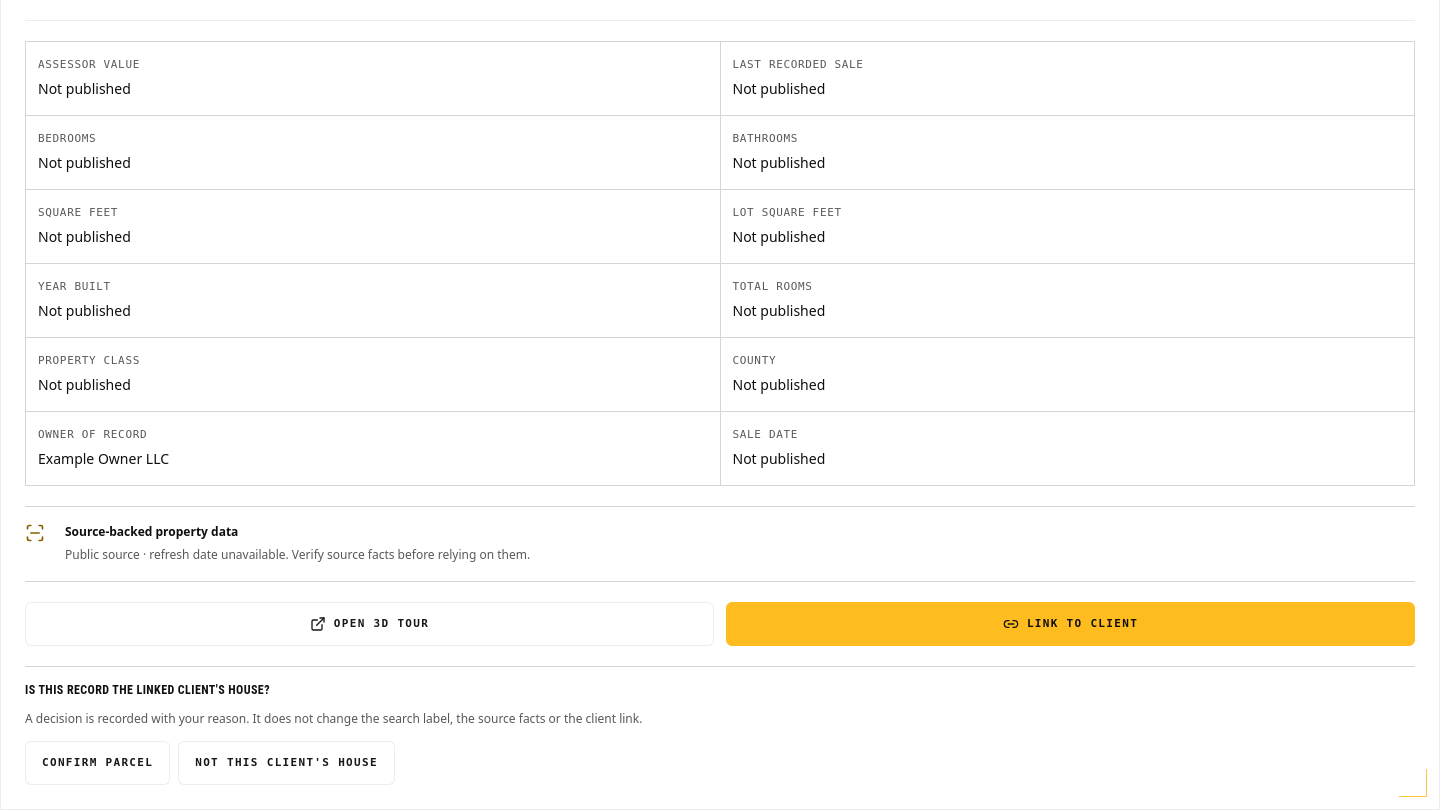
Test: HouseWorkspace house decision form › asks for evidence before a confirmation is sent
(page scrolled)
Click the button "Confirm parcel".
click(98, 763)  # box [25,741,170,785]
(page scrolled)
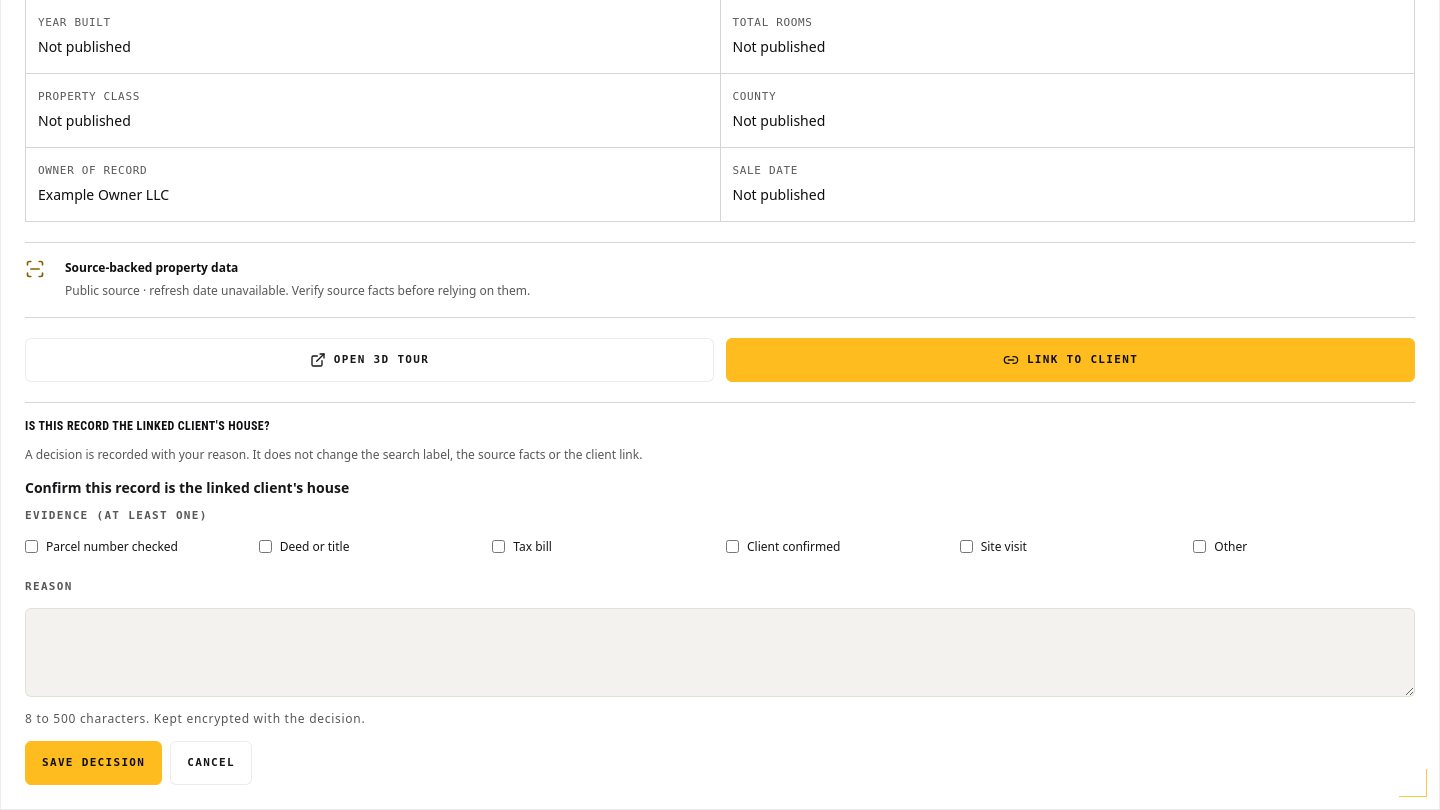
Type "Deed names the client" into the text box labelled "Reason".
click(720, 652); type("Deed names the client")  # box [25,608,1415,697]
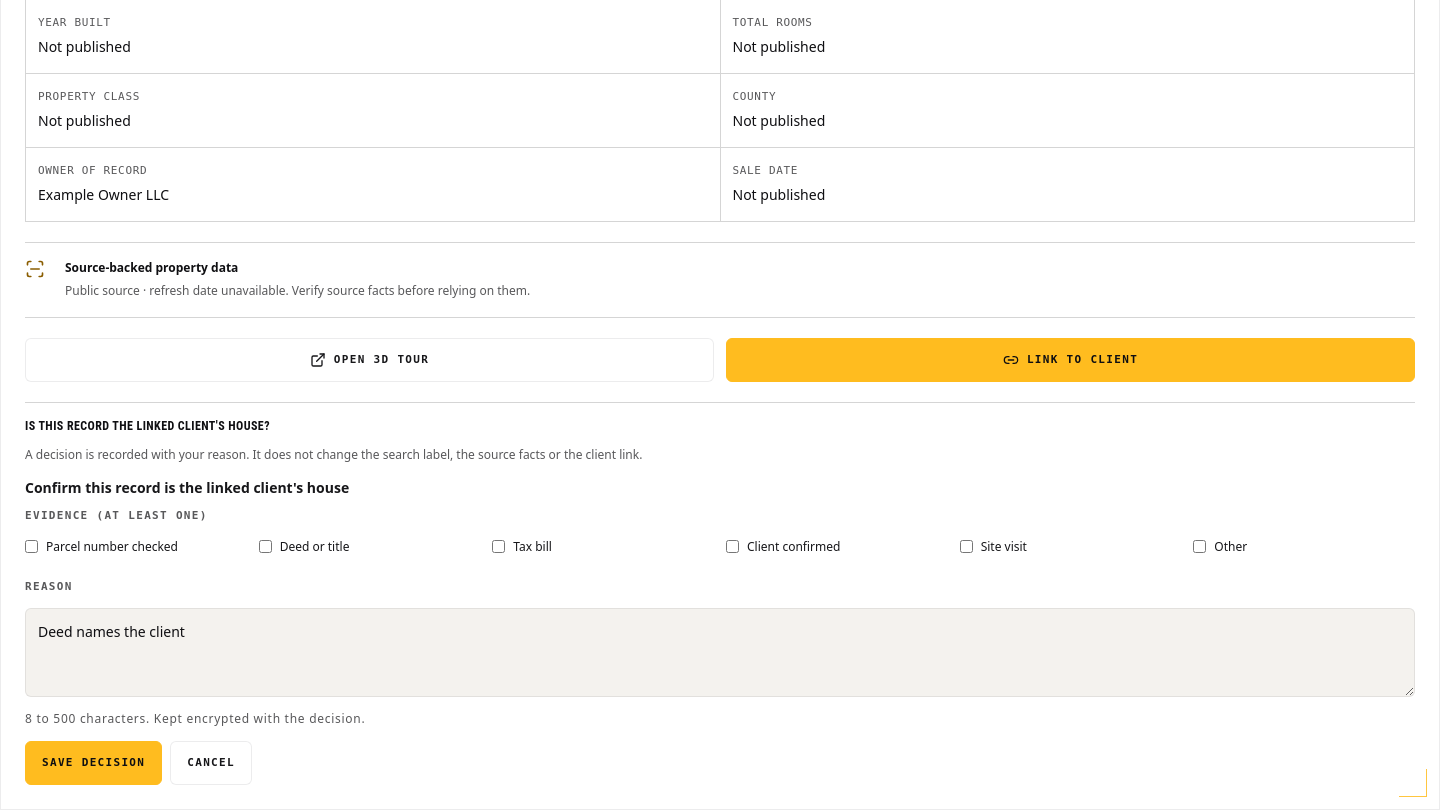
Click the button "Save decision".
click(94, 763)  # box [25,741,162,785]
(page scrolled)
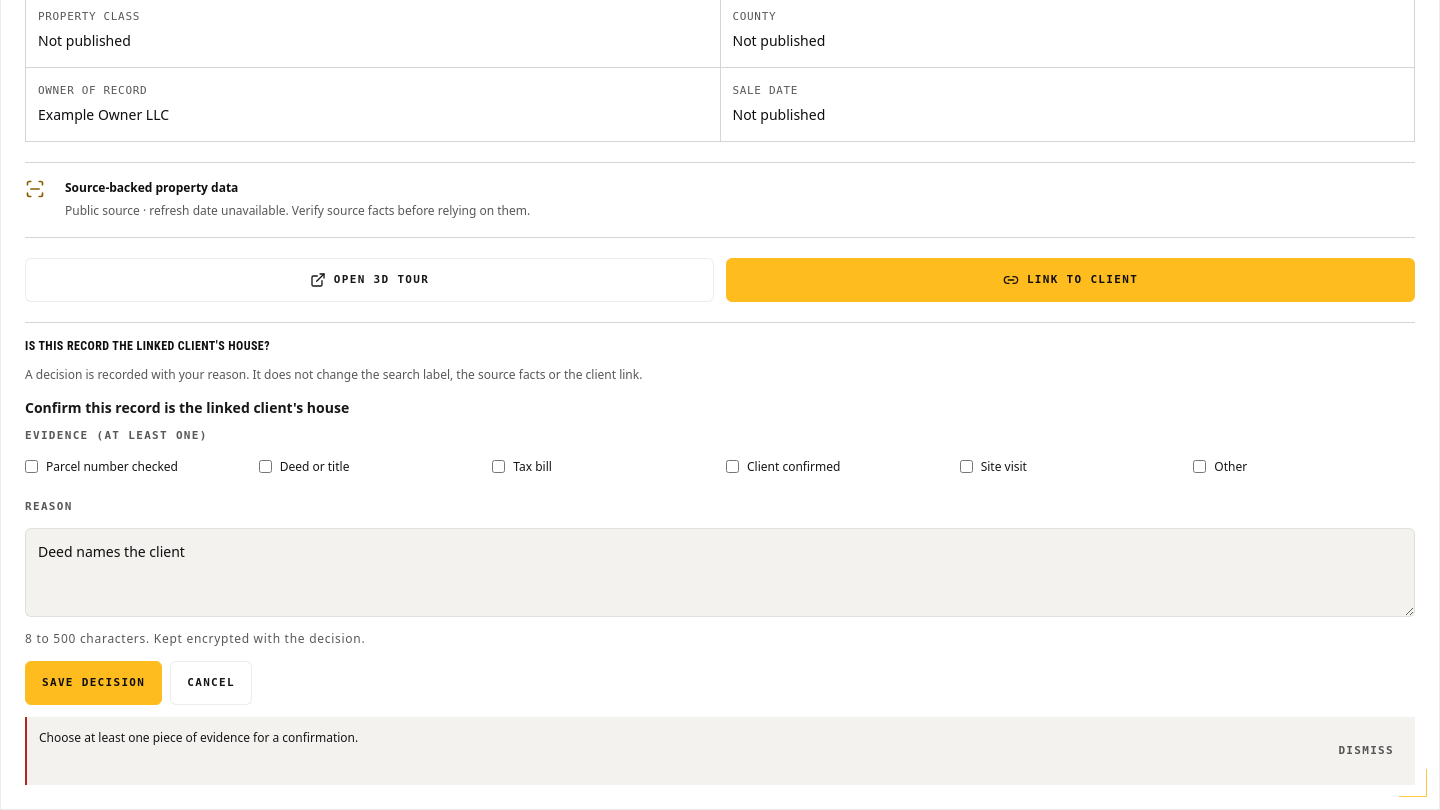
Expected: the message shows "at least one piece of evidence", [39,729,358,746]
